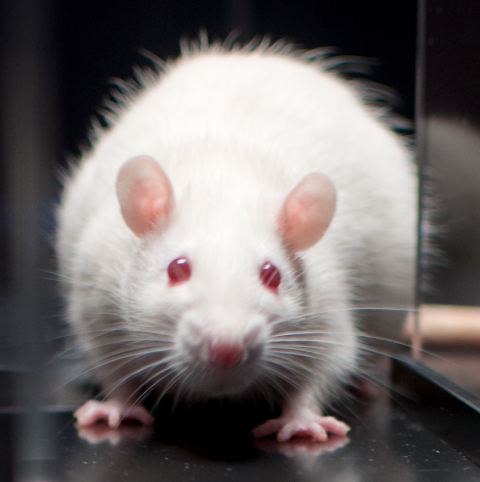rat: (35, 124, 391, 467)
